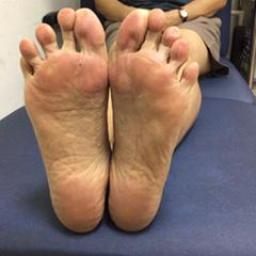Plantar View -Both Feet-: (12, 2, 202, 239)
